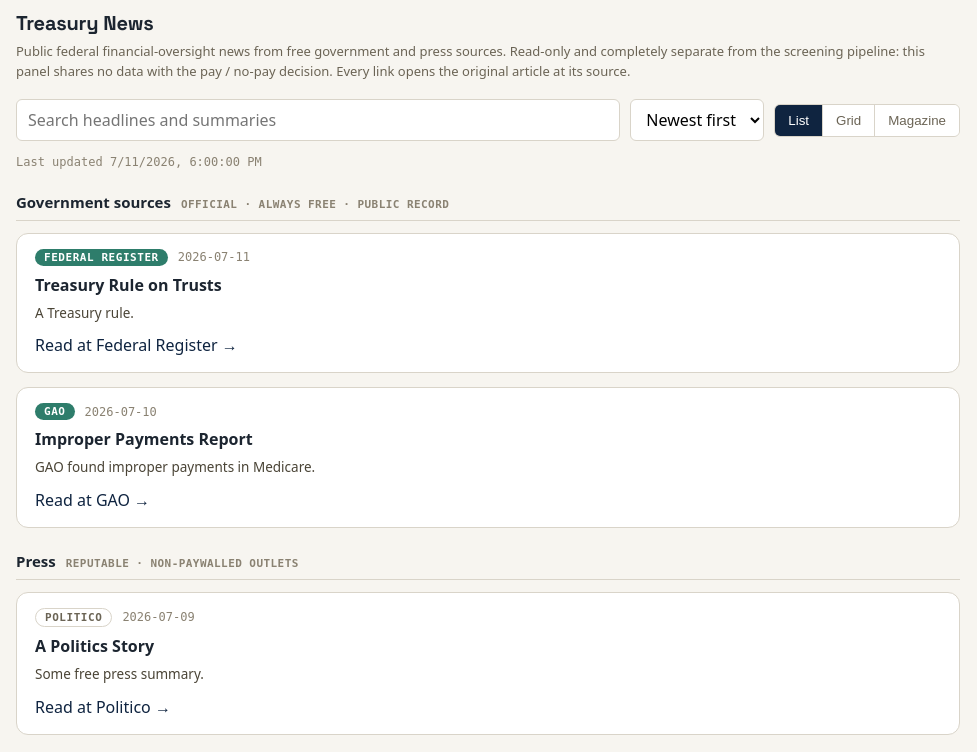
Test case: TreasuryNews › search matches the source name, and shows a clean empty state on no match
Expected: the heading "Government sources" is shown, [16,191,171,214]
Type "politico" into the search field. click: [318, 120]
box: [16,99,620,141]
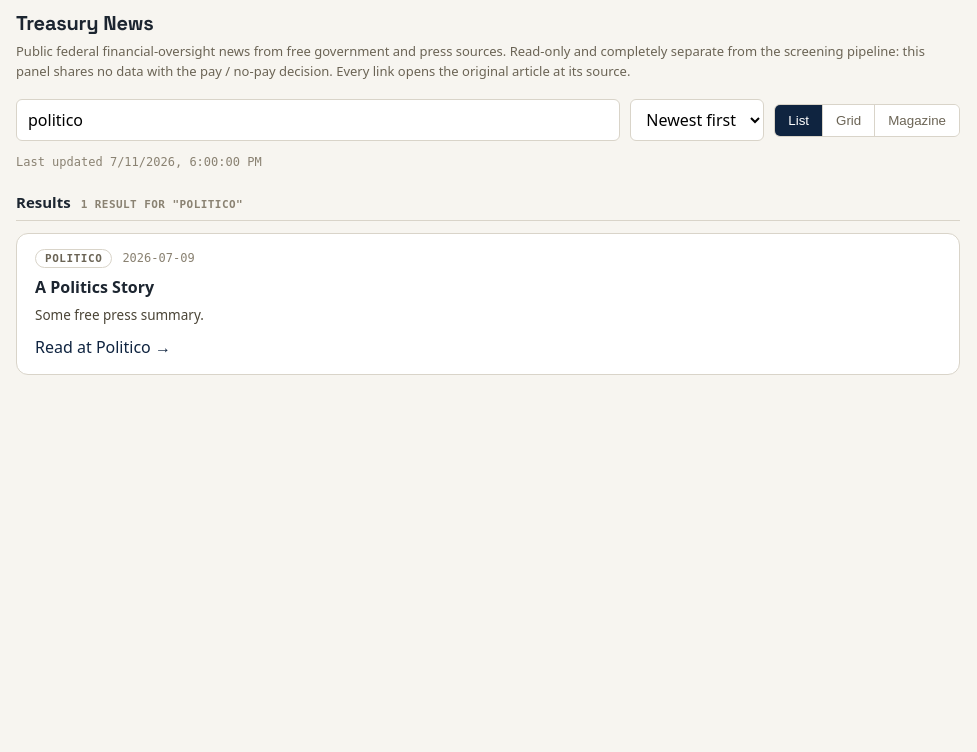
Expected: the heading "A Politics Story" is shown, [35,276,154,298]
Replace the text in the search field with "zzz-nothing". click: [318, 120]
box: [16,99,620,141]
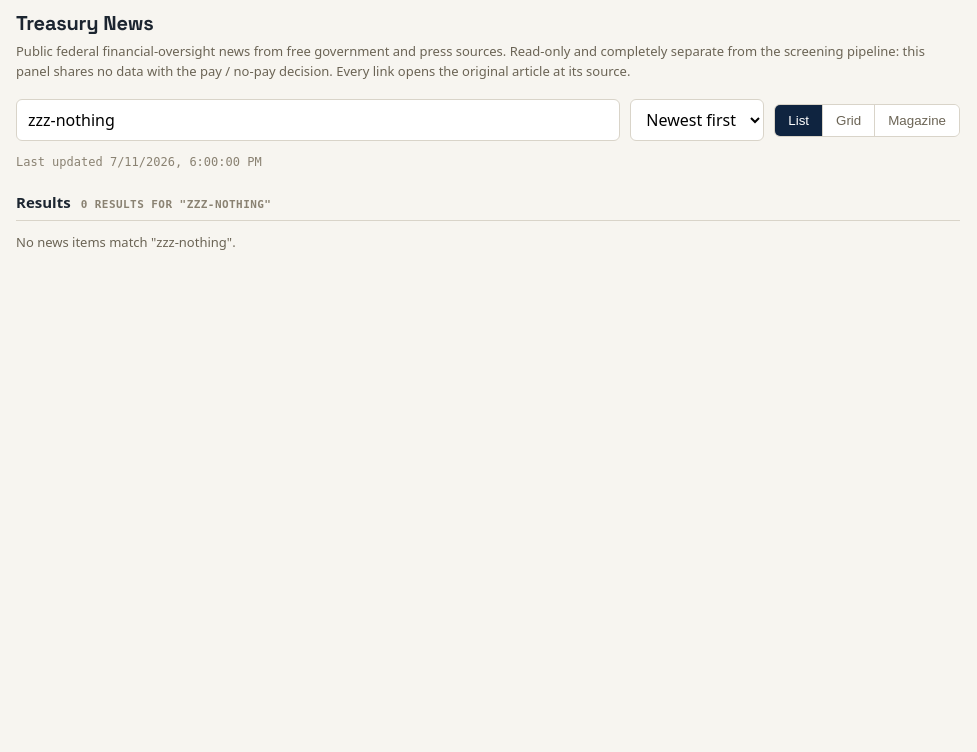
Now the text "No news items match \"zzz-nothing\"." is shown, box [16,232,236,250]
